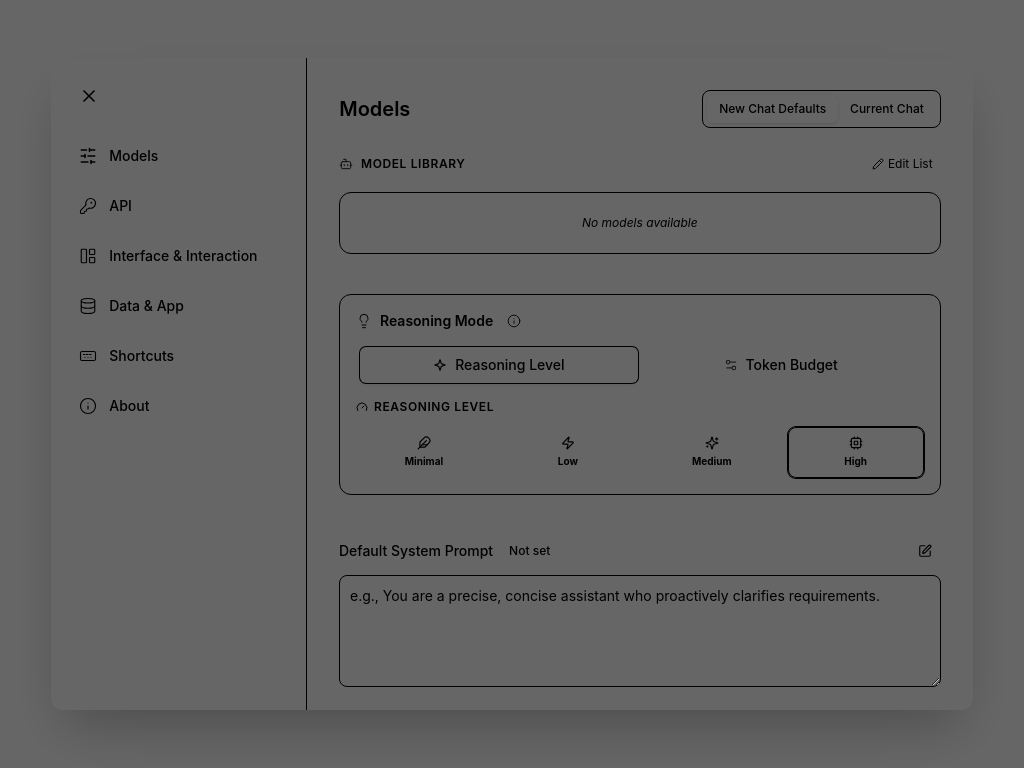
SettingsModal › shows the scope toggle only on chat-scoped settings tabs
Click the tab "Interface & Interaction" at x=179, y=256, box [63,234,294,278]
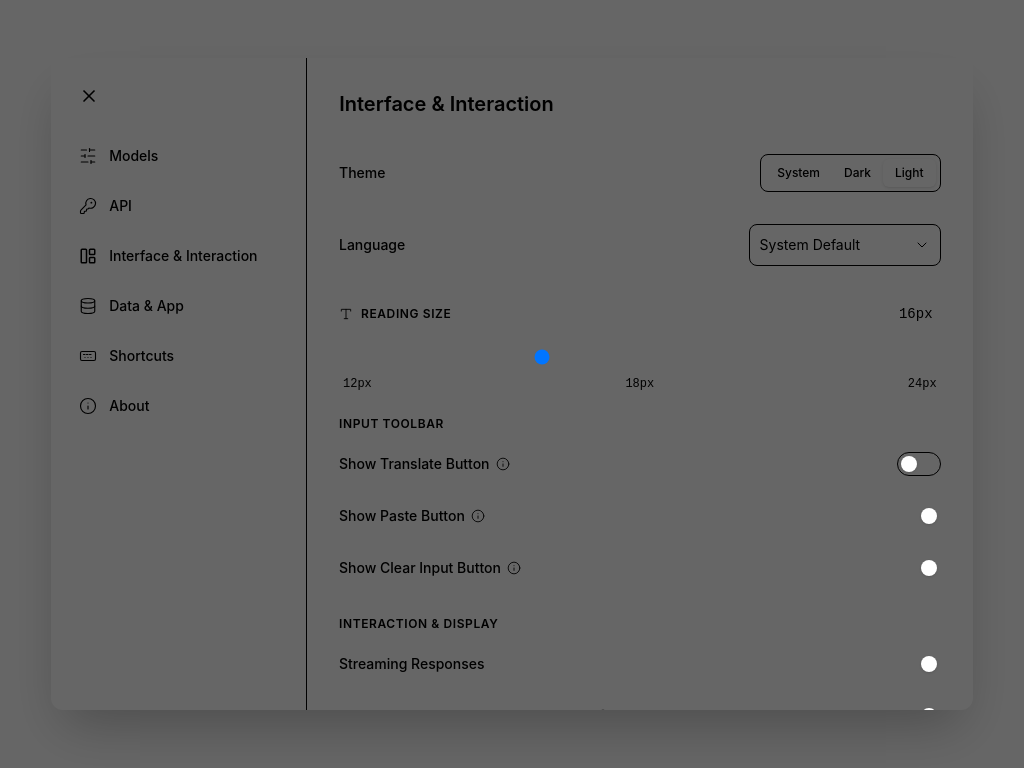
Expected: the text "Current Chat" is gone
